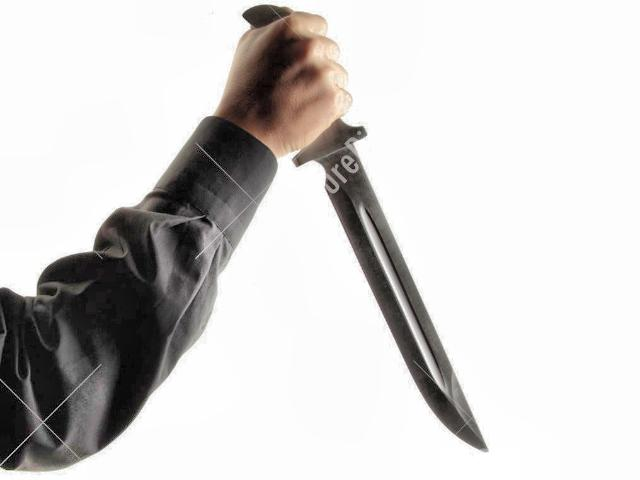knife: (281, 35, 505, 466)
